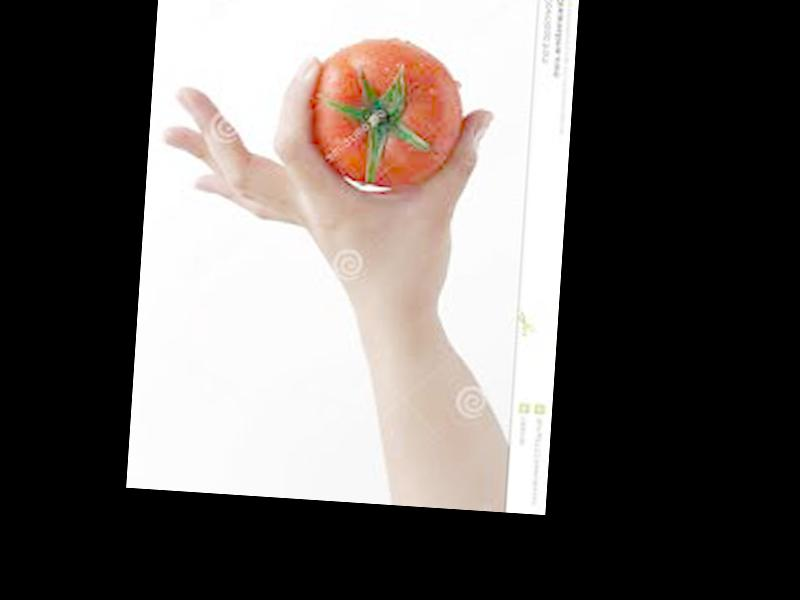Tomato: (304, 33, 466, 192)
